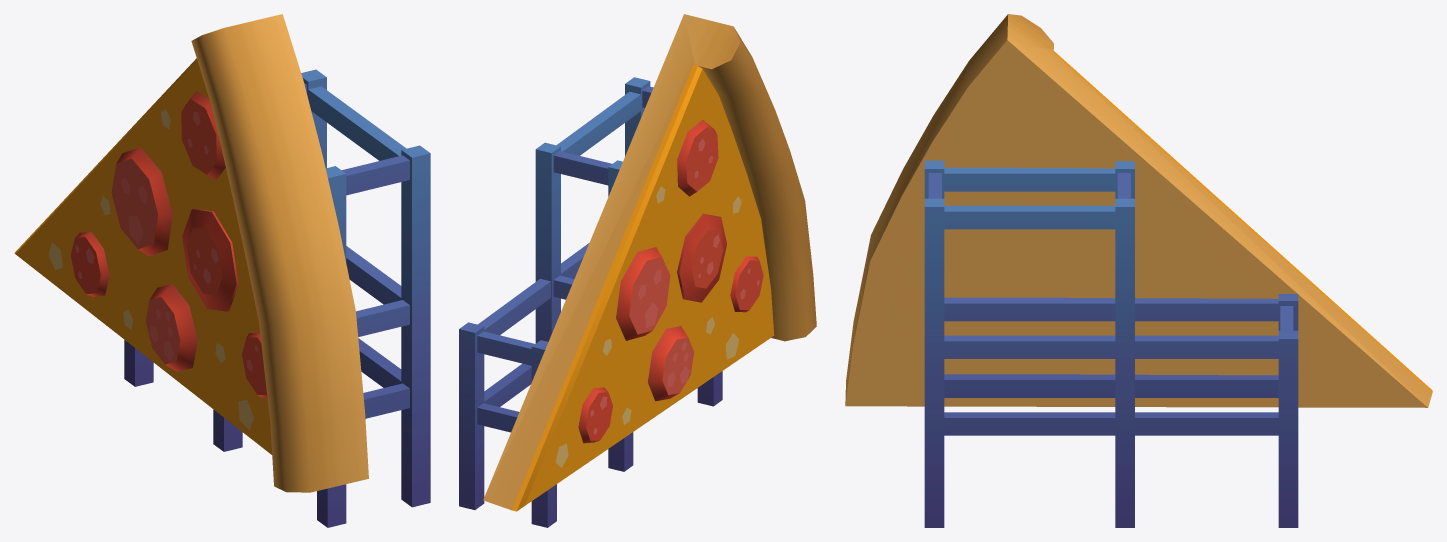
Rendered from PizzaSign_1_B.fbx.
3 views of the same model, side by side, from view 1: azimuth 30°, elevation 25°; view 2: azimuth 150°, elevation 25°; view 3: azimuth 270°, elevation 25° (orthographic). The views are drawn at different scales.
Visible parts, largest first — view 1: PizzaSign_1_B; view 2: PizzaSign_1_B; view 3: PizzaSign_1_B.
Part boxes in pixels (box(x1,y1,x2,y2)): PizzaSign_1_B: box(14, 14, 430, 527); PizzaSign_1_B: box(459, 14, 816, 527); PizzaSign_1_B: box(845, 14, 1432, 527).
Bounding box in the file's own units: 113 × 292 × 352.
